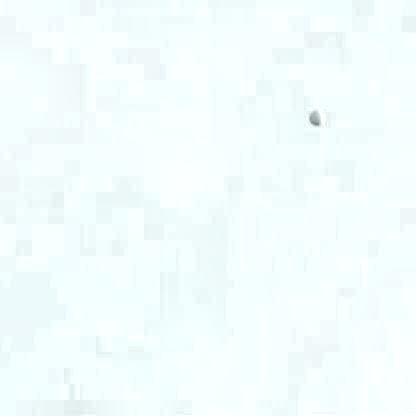golfball: (305, 108, 323, 126)
